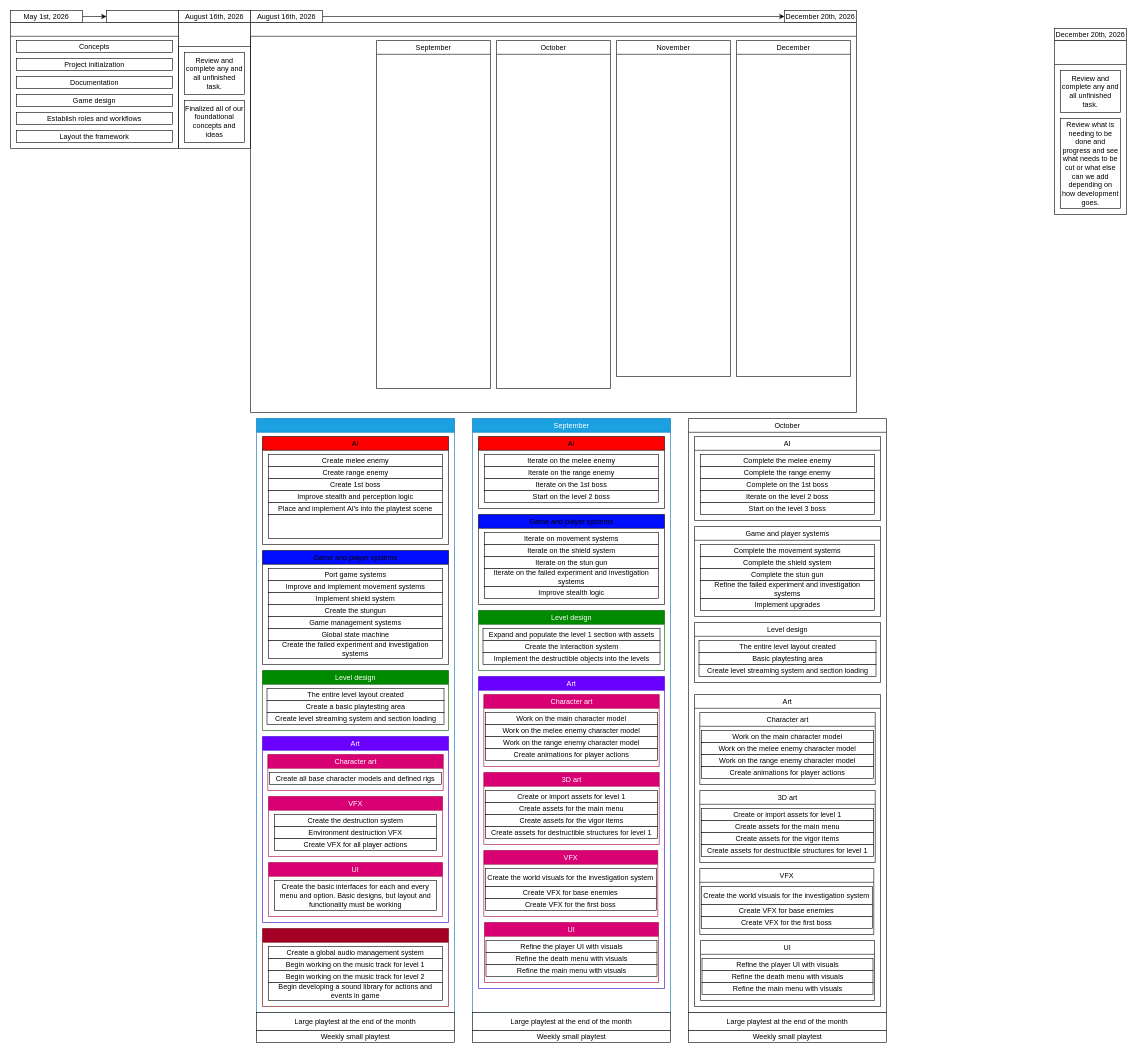
Image size: 1137x1053. Some labels were removed from this diagram. Each missing label, with the box of its shape:
August: (256, 418, 454, 1012)
August 15th, 2026: (106, 10, 178, 22)
End of Pre-production meeting: (178, 22, 250, 148)
End of Production meeting: (1054, 40, 1126, 214)
Pre-Production: (10, 22, 178, 148)
Refactor the enemy UI system and Implement Boss UI and aggression meter: (268, 514, 442, 538)
SFX: (262, 928, 448, 1006)
